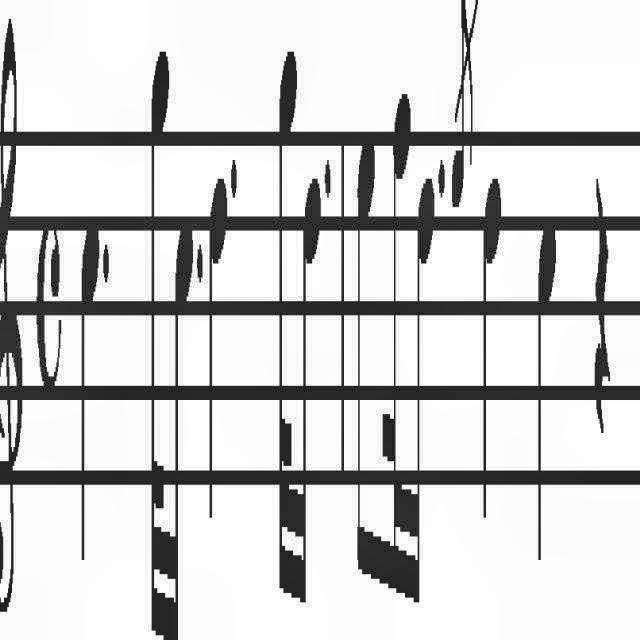Bass-clef: (0, 0, 24, 635)
Eighth-note: (354, 132, 376, 600)
Quarter-note: (534, 216, 558, 572), (208, 170, 228, 538), (483, 172, 503, 540), (80, 210, 100, 572)
Quarter-rest: (592, 170, 612, 438)
Sixteenth-note: (407, 164, 437, 628), (291, 174, 321, 606), (166, 212, 194, 640)
